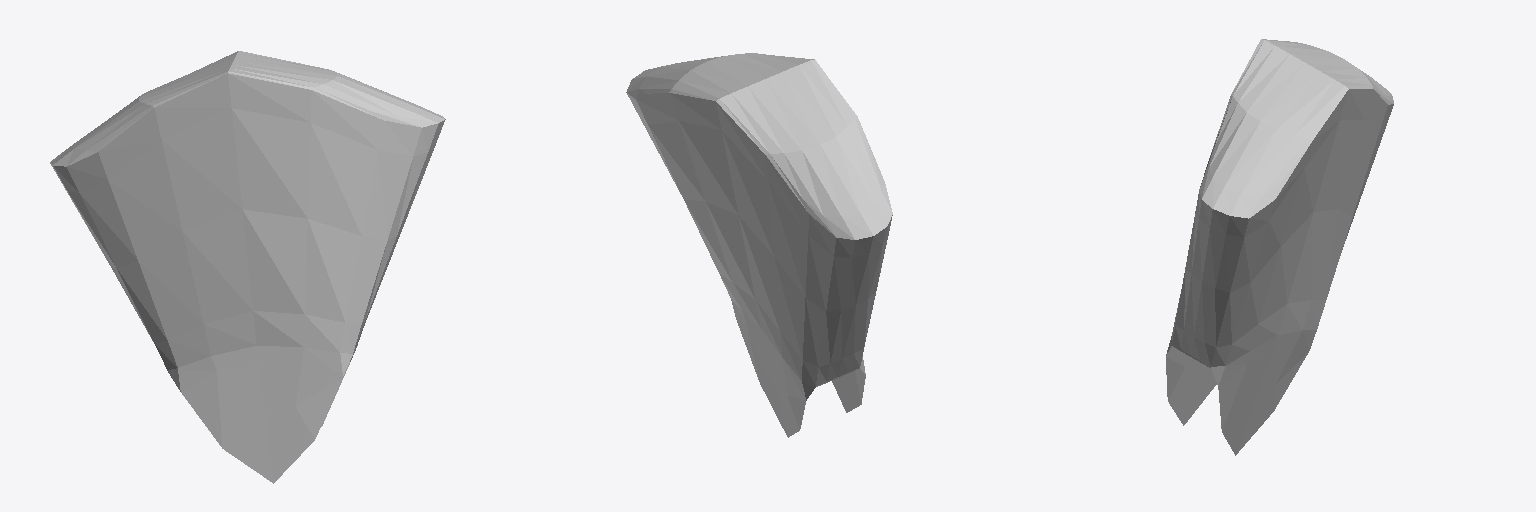
Rendered from SubTool-27-13640301.OBJ.
The picture shows the model from 3 angles: view 1: azimuth 30°, elevation 25°; view 2: azimuth 150°, elevation 25°; view 3: azimuth 270°, elevation 25°; orthographic projection.
Visible parts, largest first — view 1: Group6; view 2: Group6; view 3: Group6.
Boxes of the visible parts, <box> form: Group6: <box>50,51,445,483</box>; Group6: <box>626,53,892,437</box>; Group6: <box>1166,39,1393,455</box>.
Size of the model in its own units: 1.93 by 2.27 by 1.18.